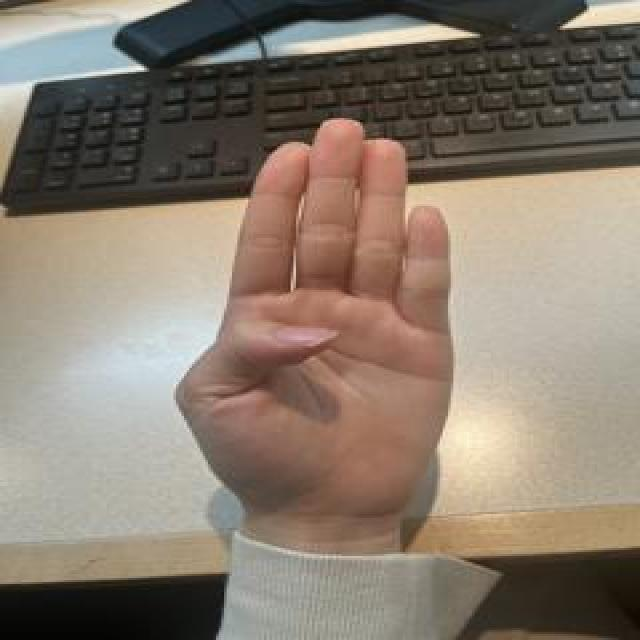B: (169, 110, 463, 528)
